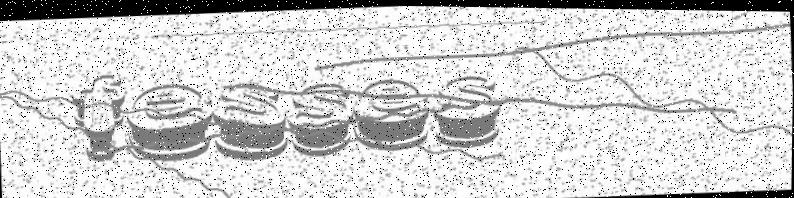e: (125, 79, 215, 163), (350, 74, 432, 153)
f: (69, 71, 130, 164)
s: (210, 80, 291, 162), (430, 72, 505, 150), (285, 79, 354, 158)
